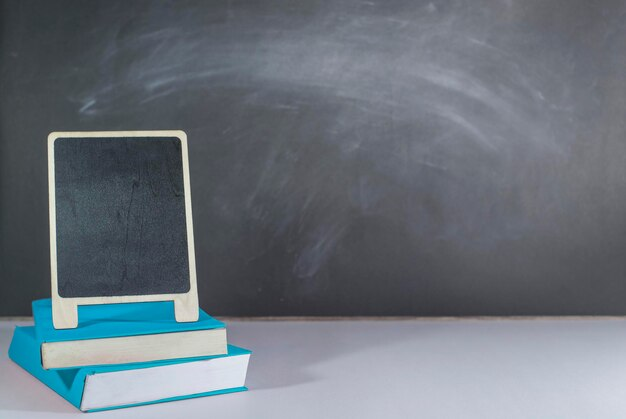not a gesture sign: (48, 130, 198, 326)
